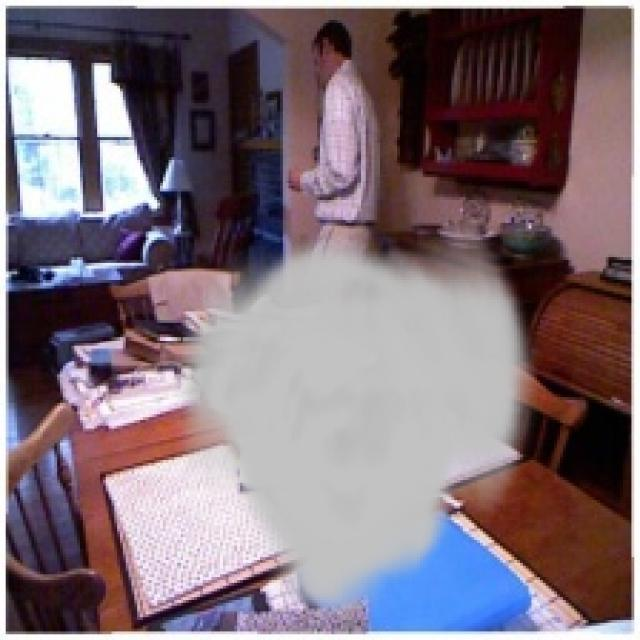Smoke: (165, 231, 538, 623)
